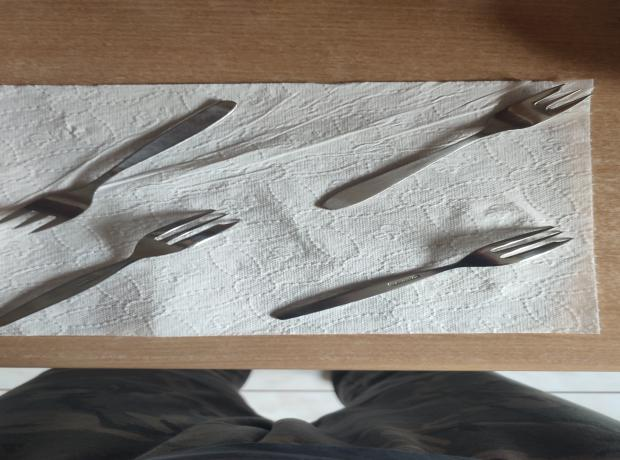metal: (317, 83, 596, 210), (0, 99, 238, 234), (272, 225, 576, 320), (0, 209, 241, 328)
